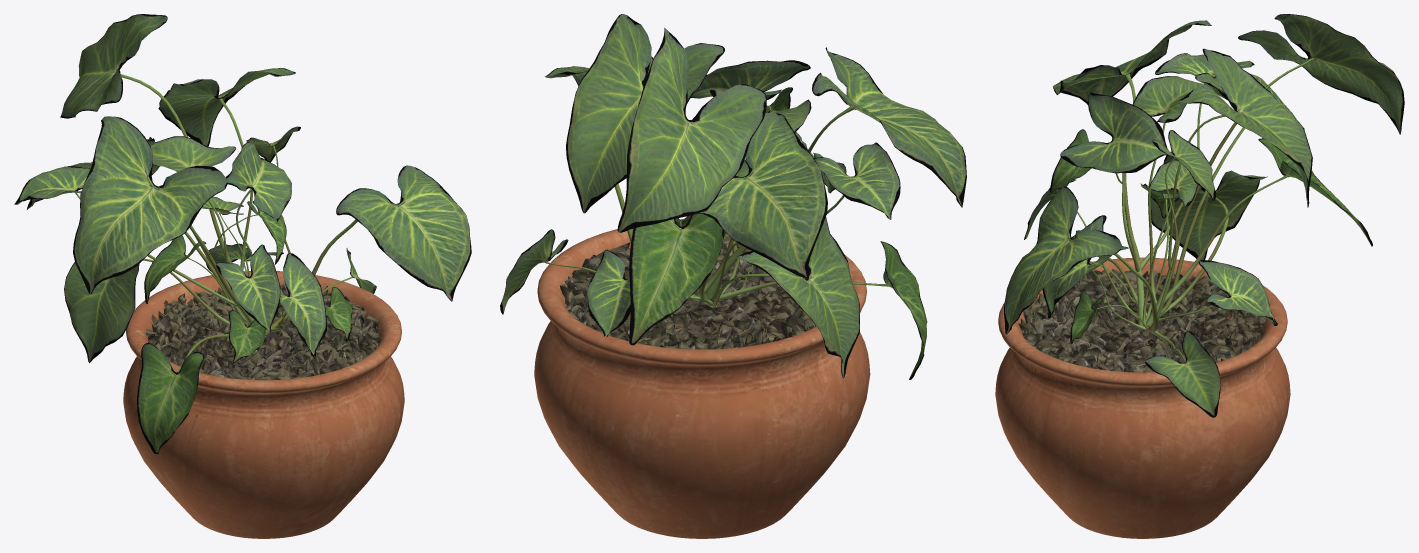
File: potted_plant_02_1k.gltf
3 views of the same model, side by side, from view 1: azimuth 30°, elevation 25°; view 2: azimuth 150°, elevation 25°; view 3: azimuth 270°, elevation 25° (orthographic). The views are drawn at different scales.
Parts seen in each view (by area): view 1: potted_plant_02_leaves, potted_plant_02_pot, potted_plant_02_dirt; view 2: potted_plant_02_leaves, potted_plant_02_pot, potted_plant_02_dirt; view 3: potted_plant_02_leaves, potted_plant_02_pot, potted_plant_02_dirt.
Part boxes in pixels (x1=…): potted_plant_02_leaves: x1=14, y1=14, x2=471, y2=454; potted_plant_02_pot: x1=123, y1=271, x2=404, y2=538; potted_plant_02_dirt: x1=145, y1=283, x2=381, y2=380; potted_plant_02_leaves: x1=500, y1=14, x2=966, y2=379; potted_plant_02_pot: x1=534, y1=219, x2=870, y2=538; potted_plant_02_dirt: x1=560, y1=236, x2=816, y2=349; potted_plant_02_leaves: x1=1004, y1=14, x2=1404, y2=417; potted_plant_02_pot: x1=995, y1=257, x2=1290, y2=538; potted_plant_02_dirt: x1=1018, y1=269, x2=1265, y2=372.
Bounding box in the file's own units: 0.7012 × 0.8412 × 0.6574.
2 materials, 2 textured.
